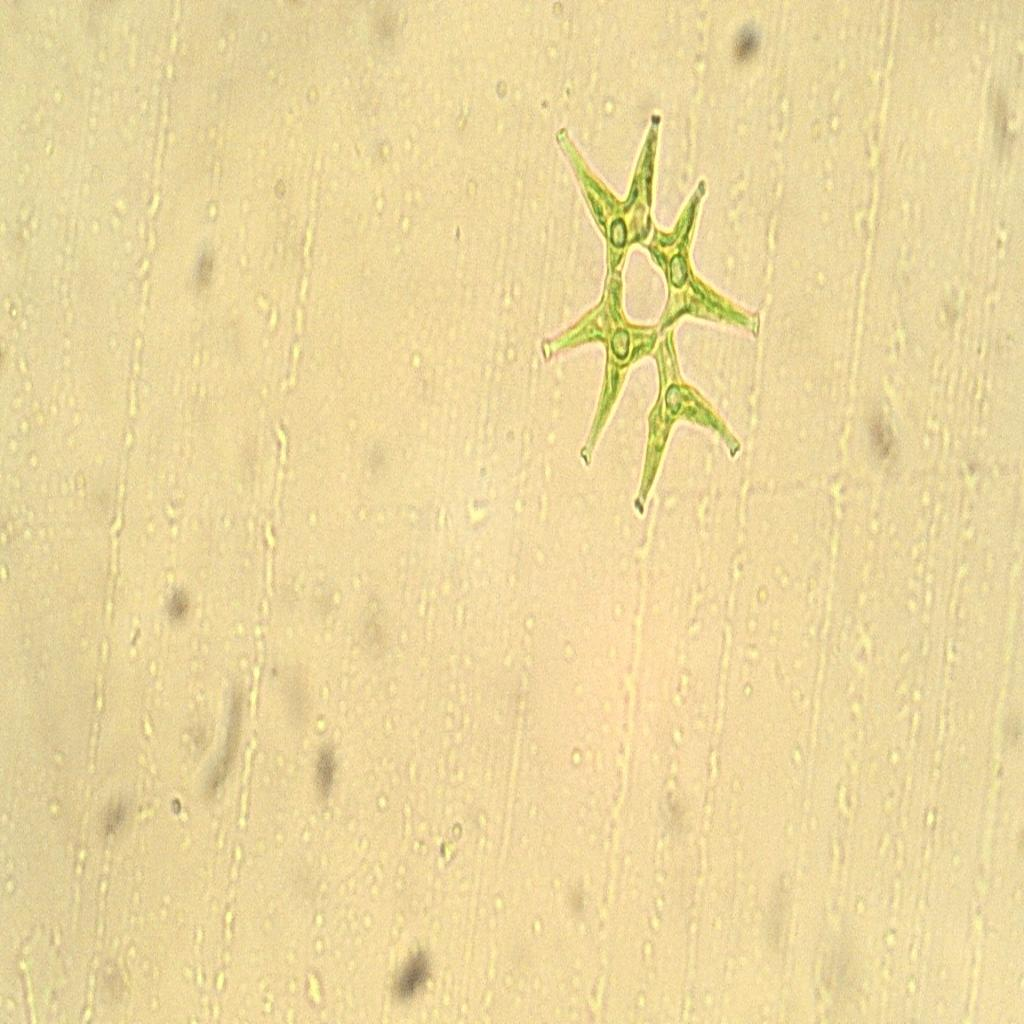Pediastrum_CT: (530, 90, 761, 522)
